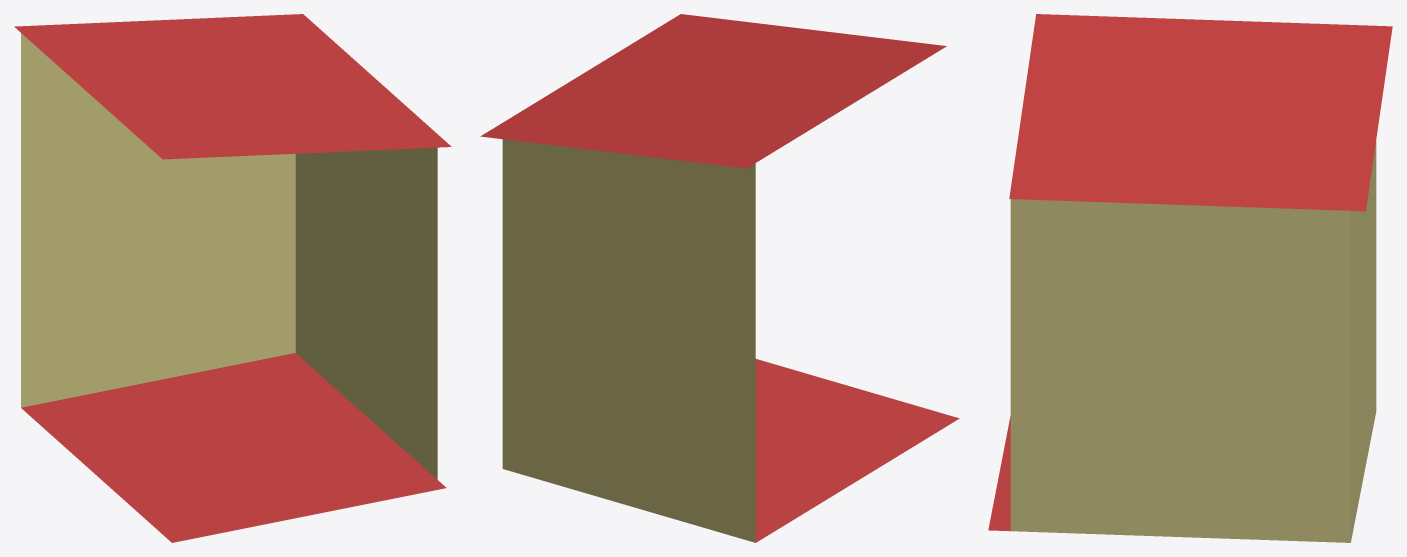
3 views of the same model, side by side, from view 1: azimuth 30°, elevation 25°; view 2: azimuth 150°, elevation 25°; view 3: azimuth 270°, elevation 25° (orthographic). The views are drawn at different scales.
Size of the model in its own units: 5.45 by 6.14 by 6.46.
